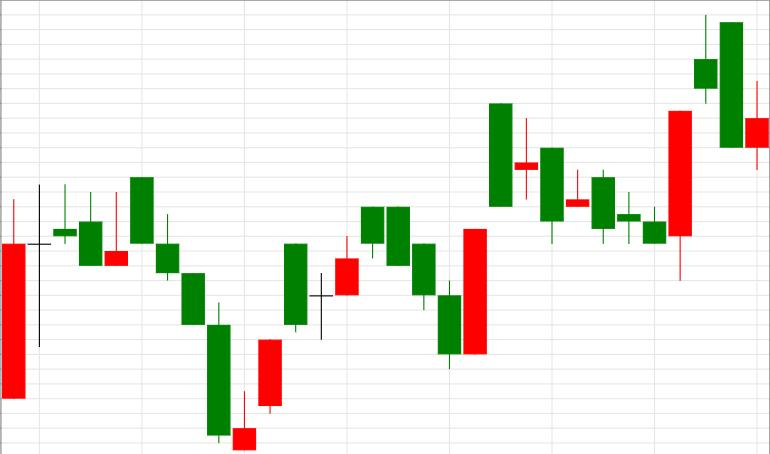bullish_engulfing_rise: (489, 104, 692, 282)
inverse_hammer_rise: (129, 178, 256, 451)
